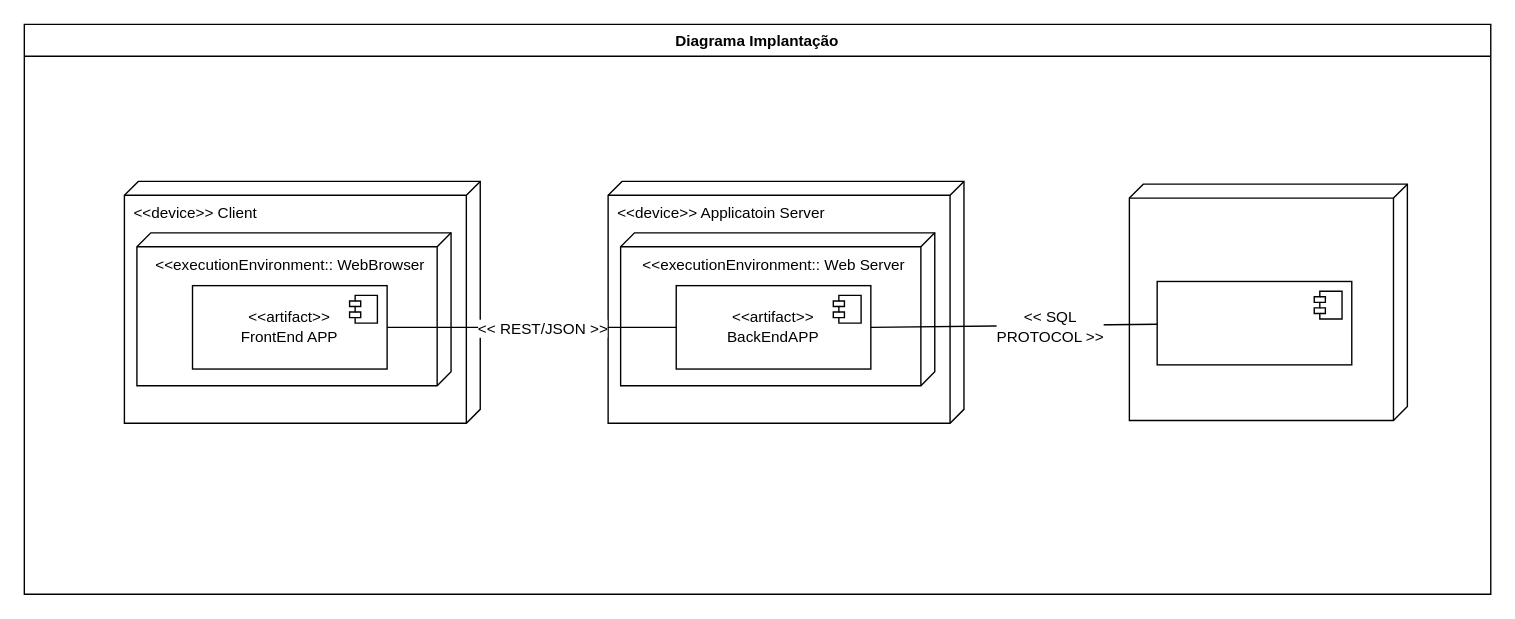
Some shapes in this 1515 by 619 pixel diagram are drawn without their labels. Here are the shapes that lost their labels. From the top down, the box of each, then its label:
(1128, 183, 1407, 420): <<device>> DataBase
(1156, 280, 1352, 365): SGBD: Mysql
